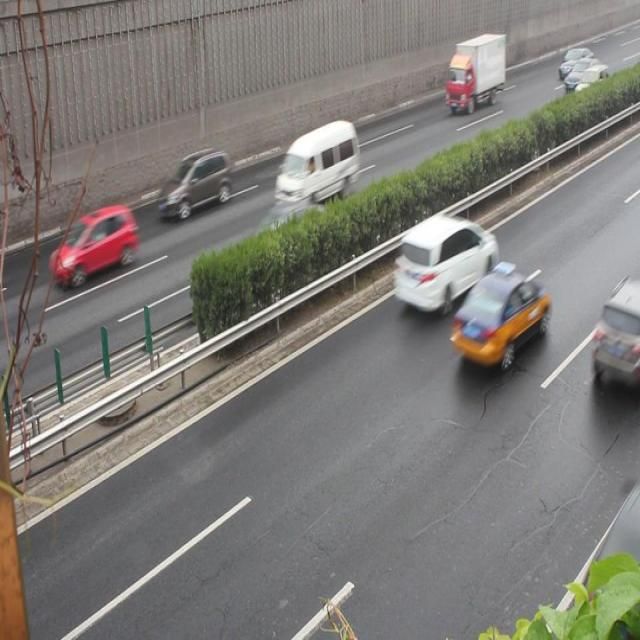bus: (444, 33, 506, 115)
car: (392, 214, 498, 313), (452, 266, 548, 366), (48, 204, 138, 286), (240, 202, 325, 278), (593, 274, 640, 388), (158, 148, 231, 221)
truck: (274, 121, 358, 210)
